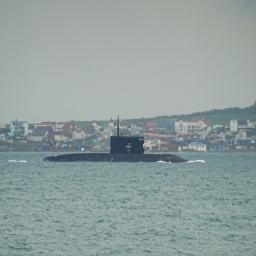submarine: (40, 133, 195, 165)
